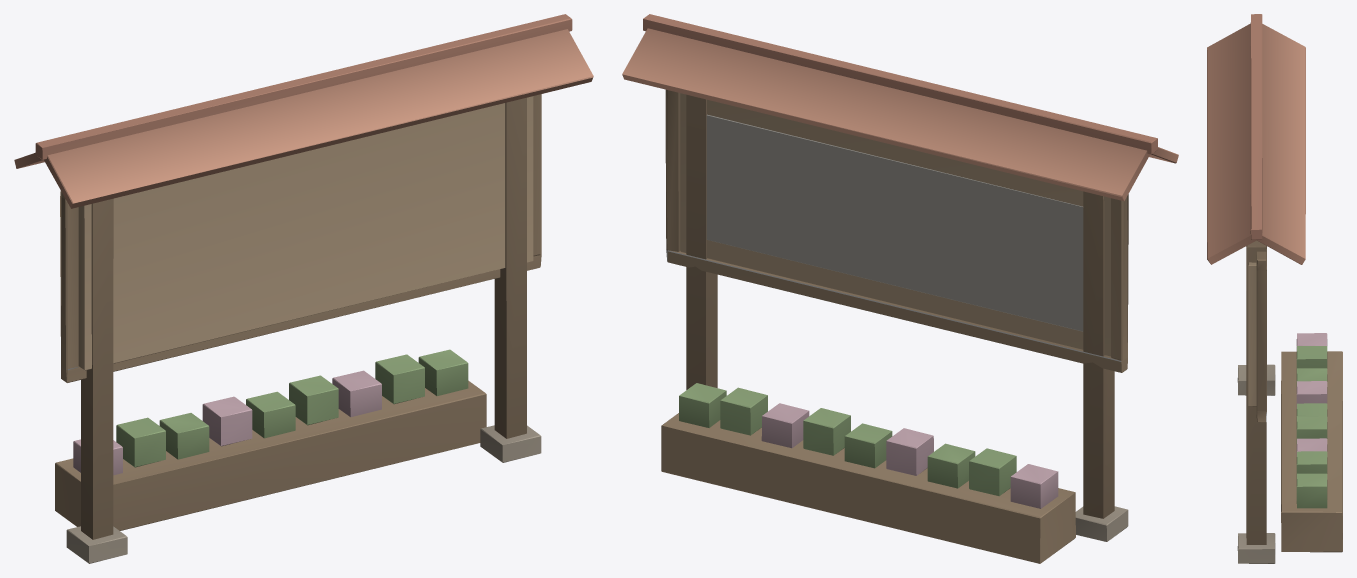
Rendered from sign_stand_low.glb.
The picture shows the model from 3 angles, left to right: view 1: azimuth 30°, elevation 25°; view 2: azimuth 150°, elevation 25°; view 3: azimuth 270°, elevation 25°; orthographic projection. The views are drawn at different scales.
Size of the model in its own units: 2.95 by 2.23 by 0.7839.
